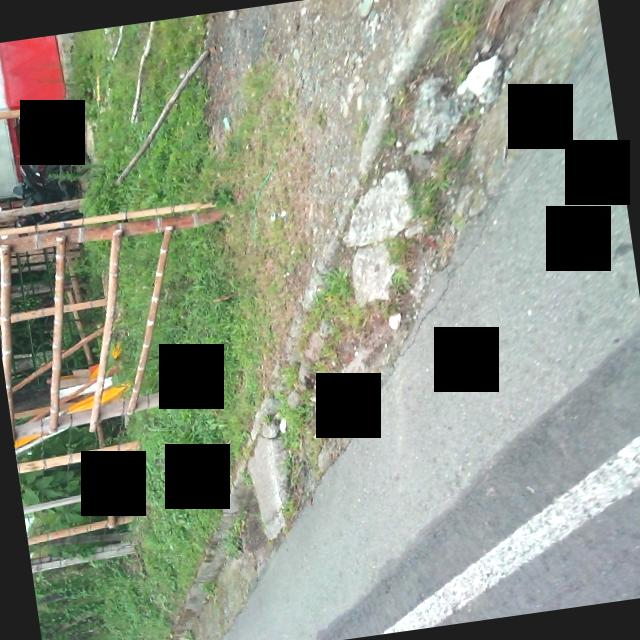DITCH: (36, 0, 640, 640), (76, 0, 640, 640)
